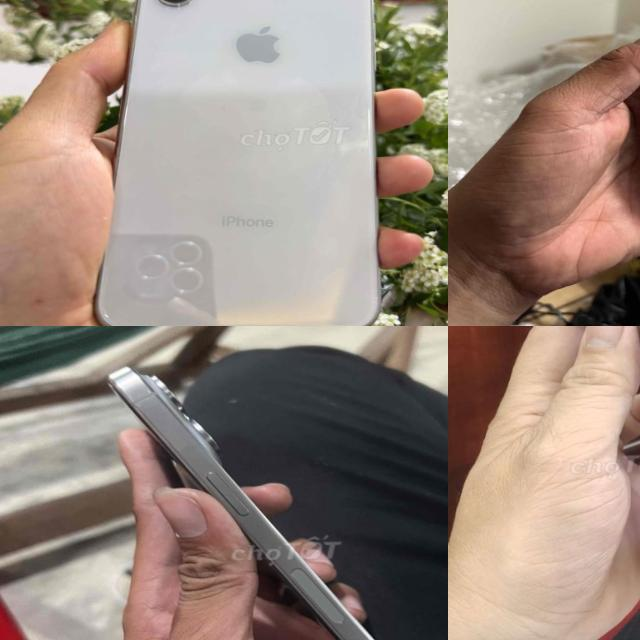scratch: (604, 326, 640, 603)
